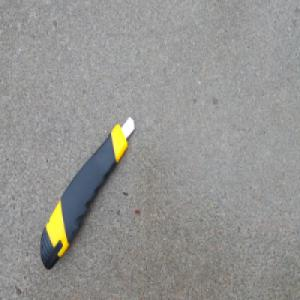Cutter: (39, 115, 136, 272)
